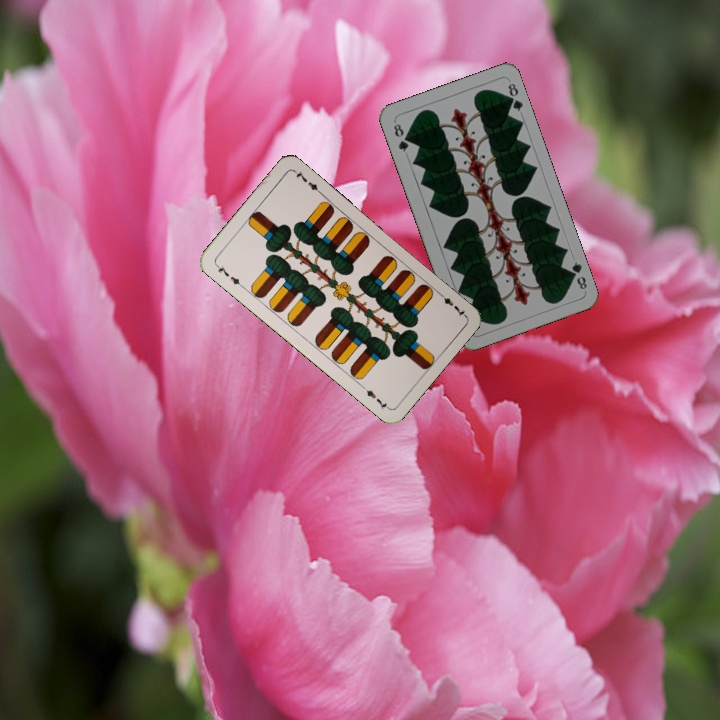E7: (434, 288, 468, 319), (212, 260, 246, 290)
G8: (565, 258, 590, 292), (390, 118, 411, 154)
